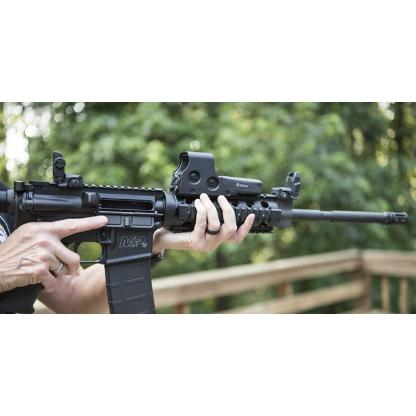gun: (0, 150, 410, 312)
